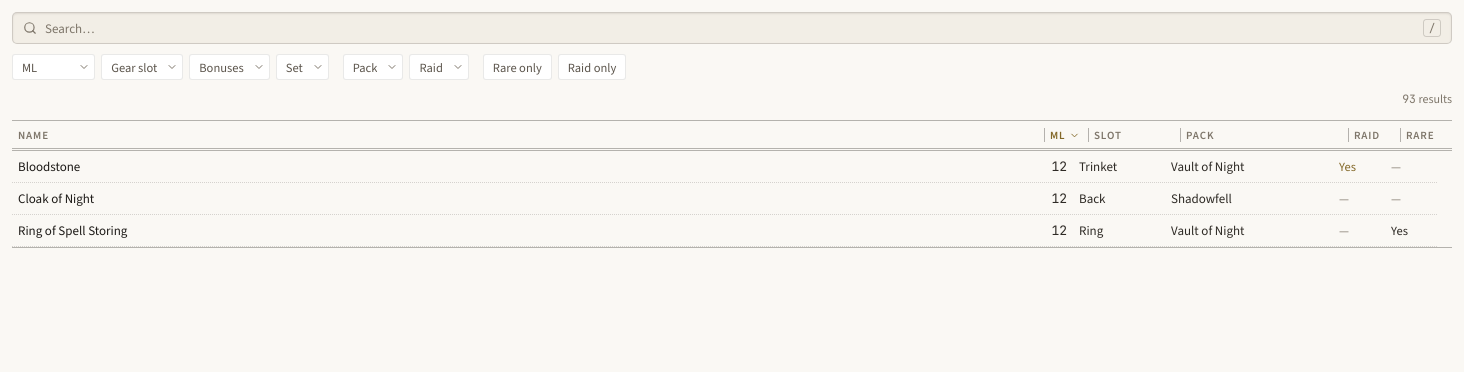
ItemPicker server-backed filters › keeps selected type labels during remote search and counts the full vocabulary
This screenshot has width=1464, height=372.
Click the button "Bonuses" at (230, 67), box [189,54,270,80]
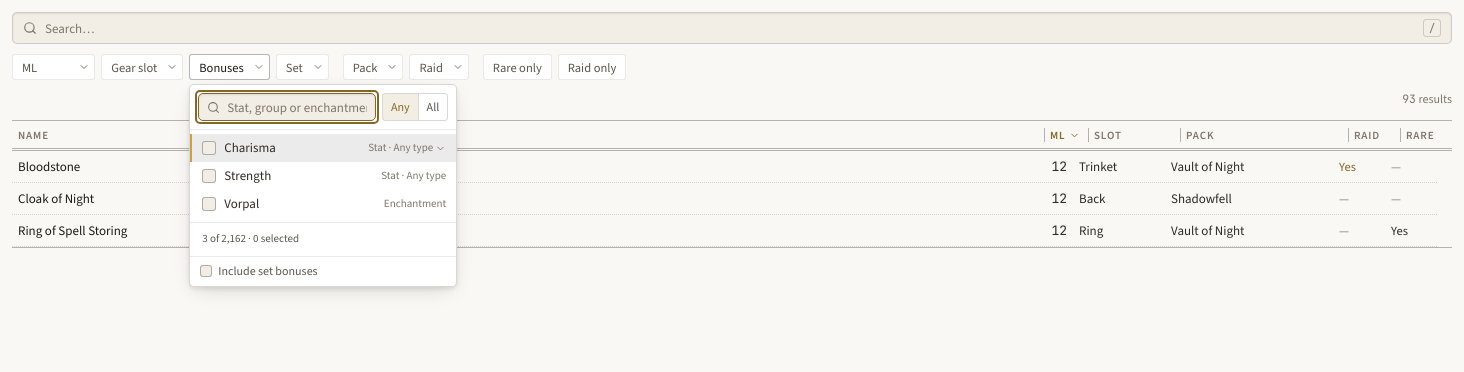
Expected: the element with class "combobox-footer" shows "3 of 2,162", [190,222,456,256]
Click the text "Stat · Any type" at (407, 148), box [368,140,446,156]
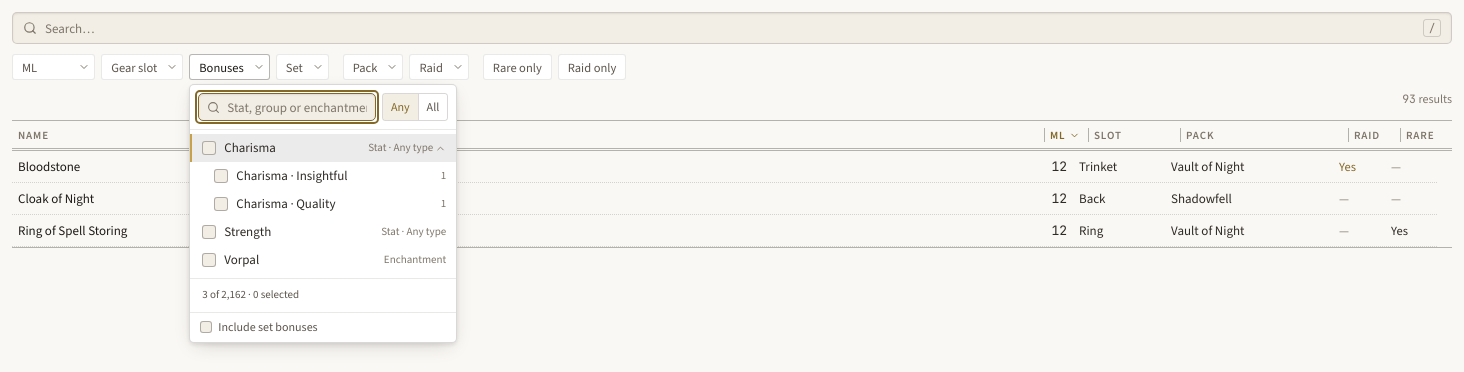
Click the option "Charisma · Insightful 1" at (323, 176), box [190,162,456,190]
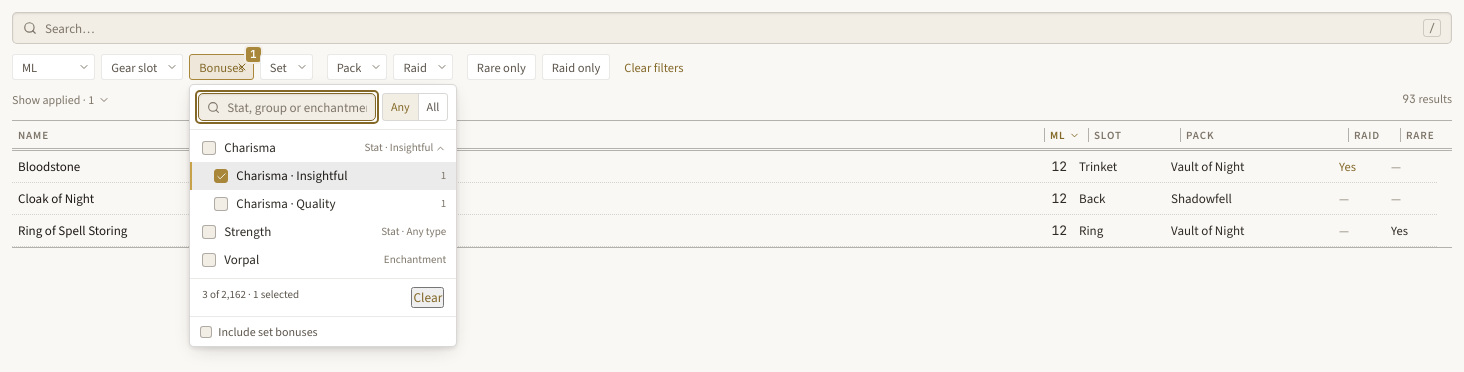
Type "vorpal" into the dropdown named "Bonuses" at (297, 107), box [227,94,367,120]
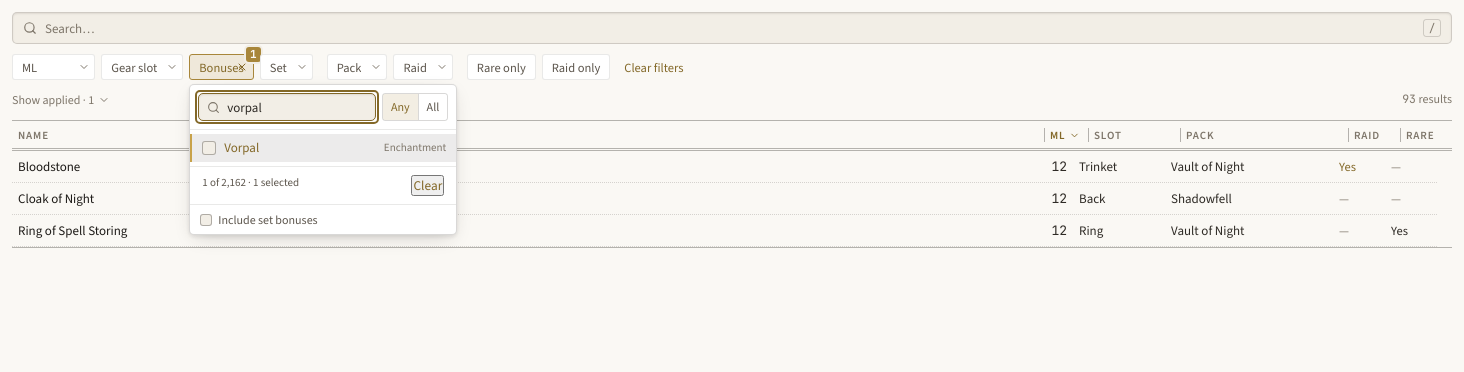
Expected: the number of options is 1, [190,134,456,162]
Expected: the element with class "combobox-footer" shows "1 of 2,162", [190,166,456,204]
Click the button "Show applied · 1" at (61, 100), box [12,90,110,110]
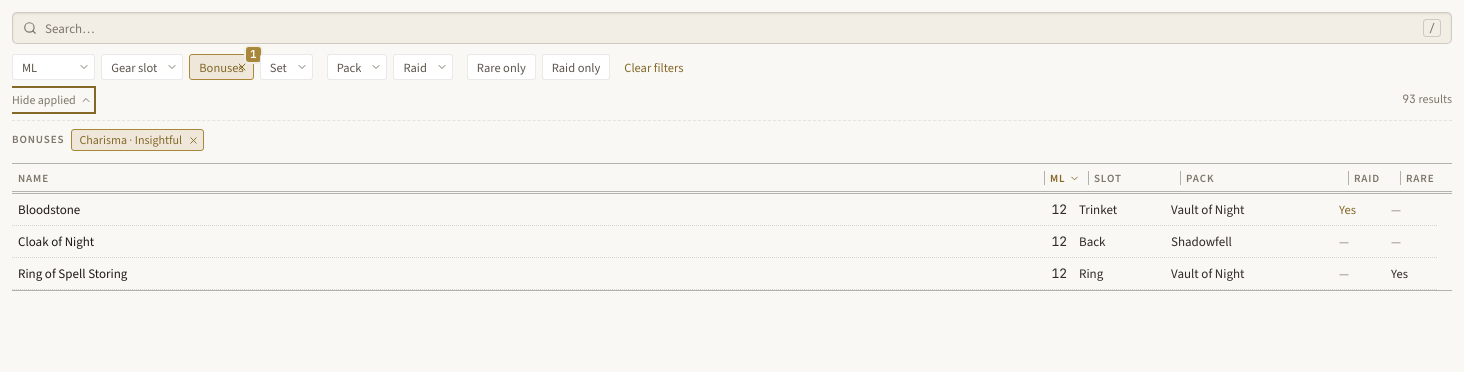
Expected: the button with aria-label "Remove Bonuses: Charisma · Insightful" is shown, [71,129,204,151]
